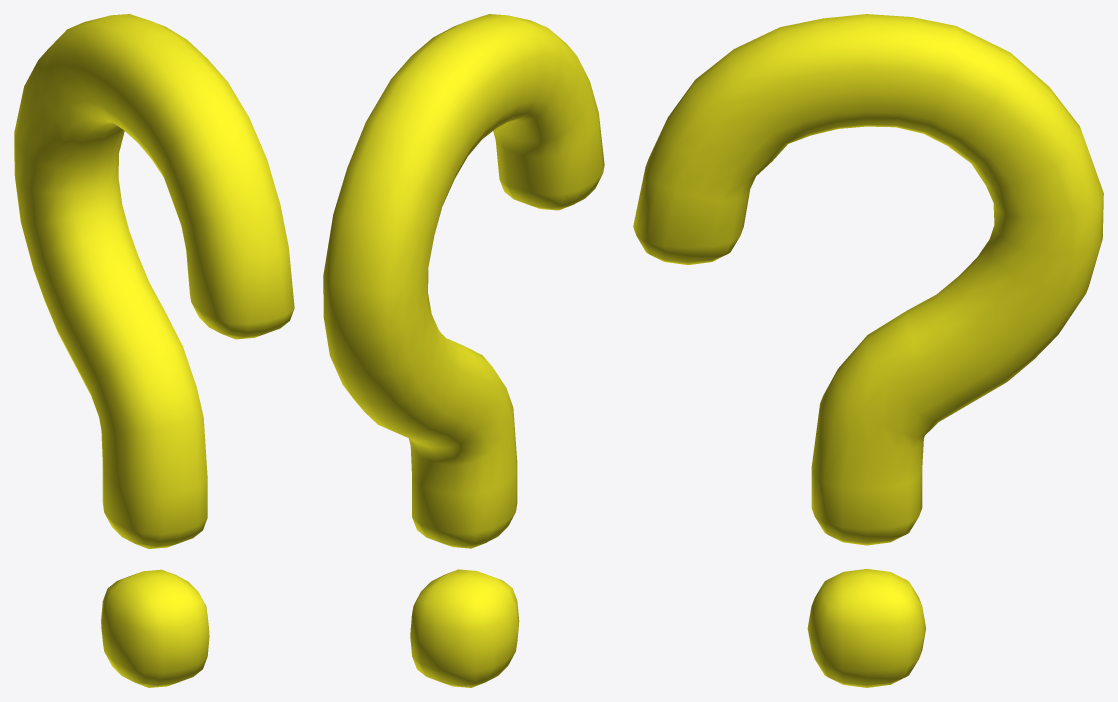
Rendered from Question Mark.fbx.
3 renders of one model, left to right at view 1: azimuth 30°, elevation 25°; view 2: azimuth 150°, elevation 25°; view 3: azimuth 270°, elevation 25°, orthographic. The views are drawn at different scales.
Visible parts, largest first — view 1: Question Mark; view 2: Question Mark; view 3: Question Mark.
Boxes of the visible parts, bbox=[...] form: Question Mark: bbox=[14, 14, 294, 687]; Question Mark: bbox=[323, 14, 604, 687]; Question Mark: bbox=[633, 14, 1103, 687].
Bounding box in the file's own units: 0.2028 × 1.4 × 0.9011.
